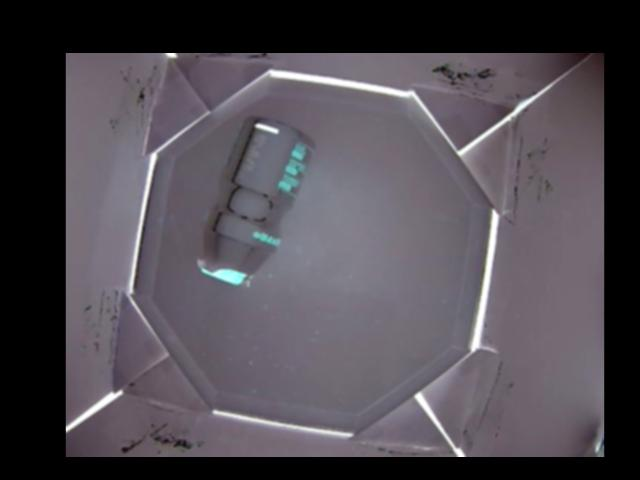Bottle: (196, 113, 318, 286)
